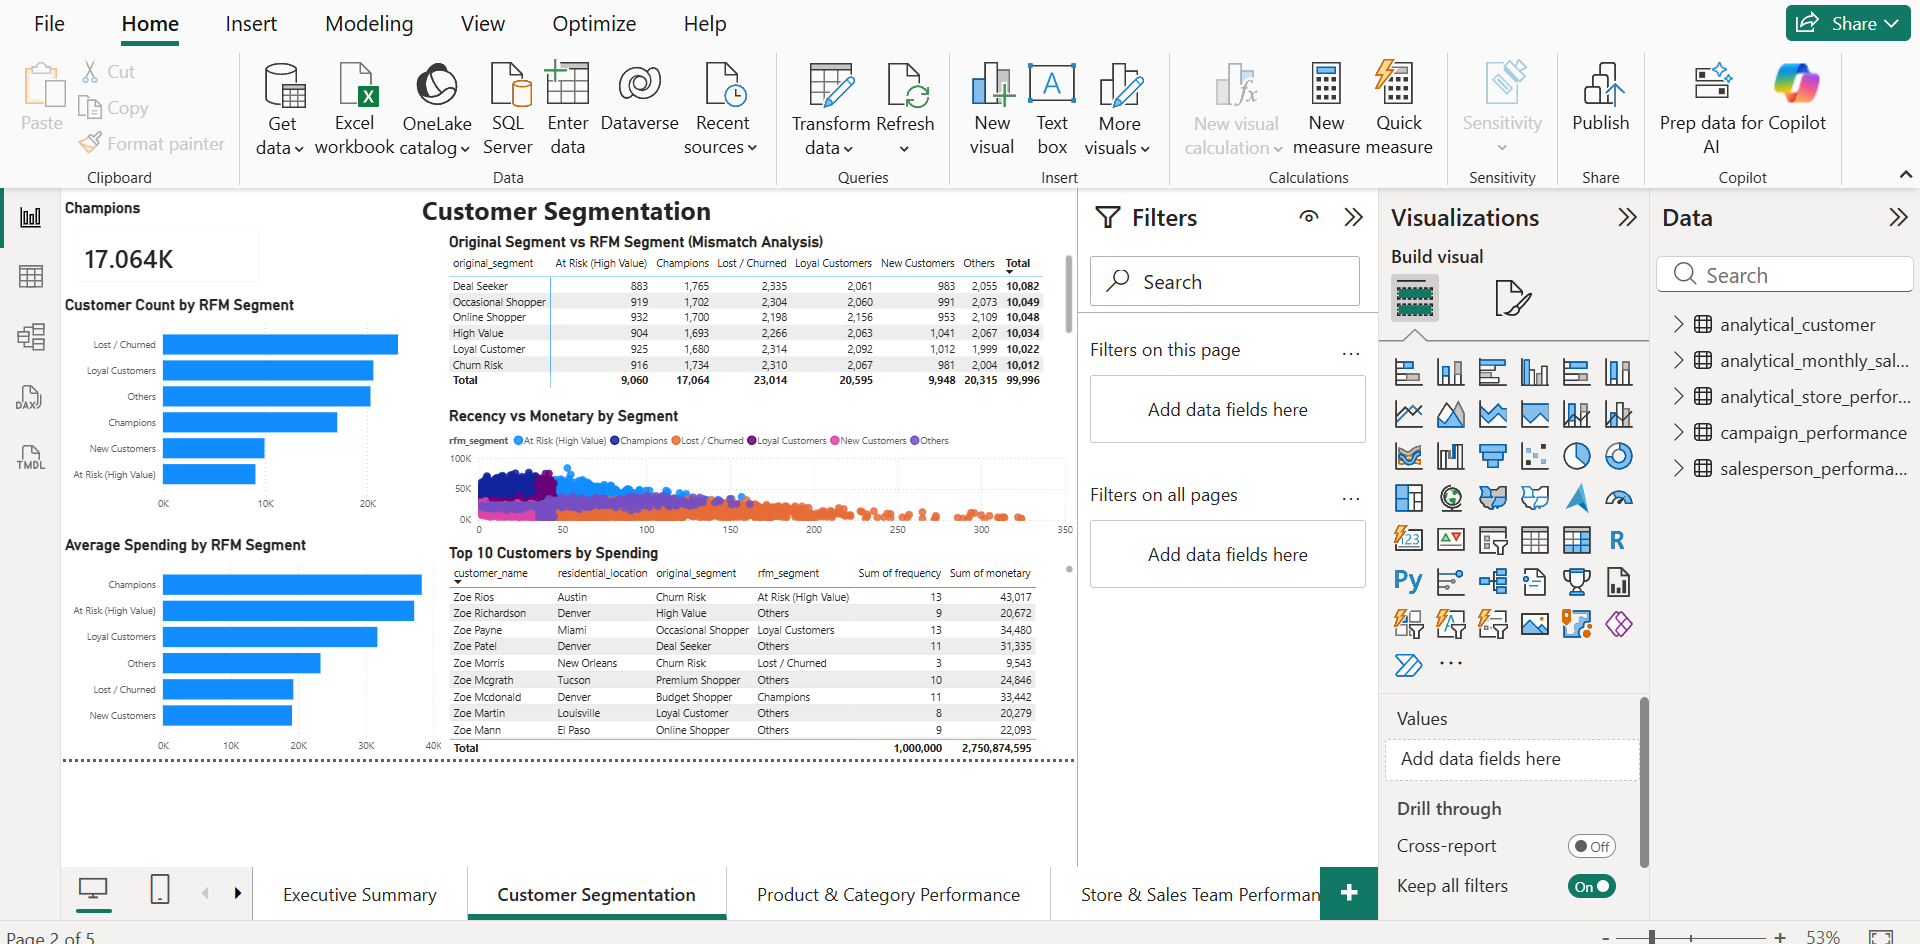

What the dashboard file says about the page in this screenshot:
{"tool":"powerbi","page":{"name":"Customer Segmentation","canvas":[1280,720],"ordinal":1},"visuals":[{"type":"cardVisual","title":"Champions","fields":{"Data":["CountNonNull(analytical_customer.customer_id)"]},"box":[0,13.2,266.5,122.8],"z":0},{"type":"textbox","box":[449.8,0,381.7,56.7],"z":1000},{"type":"clusteredBarChart","title":"Customer Count by RFM Segment","fields":{"Category":["analytical_customer.rfm_segment"],"Y":["CountNonNull(analytical_customer.customer_id)"]},"box":[0,136.1,464.9,279.7],"z":2000},{"type":"clusteredBarChart","title":"Average Spending by RFM Segment","fields":{"Category":["analytical_customer.rfm_segment"],"Y":["Avg(analytical_customer.monetary)"]},"box":[0,438.4,483.8,281.6],"z":3000},{"type":"pivotTable","title":"Original Segment vs RFM Segment (Mismatch Analysis)","fields":{"Rows":["analytical_customer.original_segment"],"Columns":["analytical_customer.rfm_segment"],"Values":["CountNonNull(analytical_customer.customer_id)"]},"box":[483.8,56.7,795.6,200.3],"z":4000},{"type":"scatterChart","title":"Recency vs Monetary by Segment","fields":{"X":["analytical_customer.recency_days"],"Y":["analytical_customer.monetary"],"Series":["analytical_customer.rfm_segment"]},"box":[483.8,275.9,795.6,172],"z":5000},{"type":"tableEx","title":"Top 10 Customers by Spending","fields":{"Values":["analytical_customer.customer_name","analytical_customer.residential_location","analytical_customer.original_segment","analytical_customer.rfm_segment","Sum(analytical_customer.frequency)","Sum(analytical_customer.monetary)"]},"box":[484,448,796,272],"z":6000}]}

Visuals, with their boxes on the page's 1280x720 design canvas (x1, y1, x2, y2). These are canvas units, not pixel positions in the 1920x944 screenshot, which may show the page scaled, cropped or inside an application window:
"Champions" cardVisual: <region>0, 13, 266, 136</region>
textbox: <region>450, 0, 832, 57</region>
"Customer Count by RFM Segment" clusteredBarChart: <region>0, 136, 465, 416</region>
"Average Spending by RFM Segment" clusteredBarChart: <region>0, 438, 484, 720</region>
"Original Segment vs RFM Segment (Mismatch Analysis)" pivotTable: <region>484, 57, 1279, 257</region>
"Recency vs Monetary by Segment" scatterChart: <region>484, 276, 1279, 448</region>
"Top 10 Customers by Spending" tableEx: <region>484, 448, 1280, 720</region>
